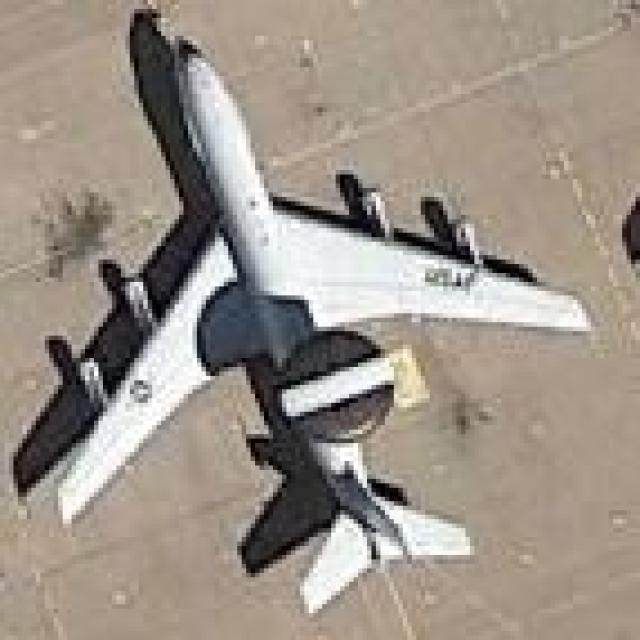E-3_TopDown: (9, 0, 595, 613)
